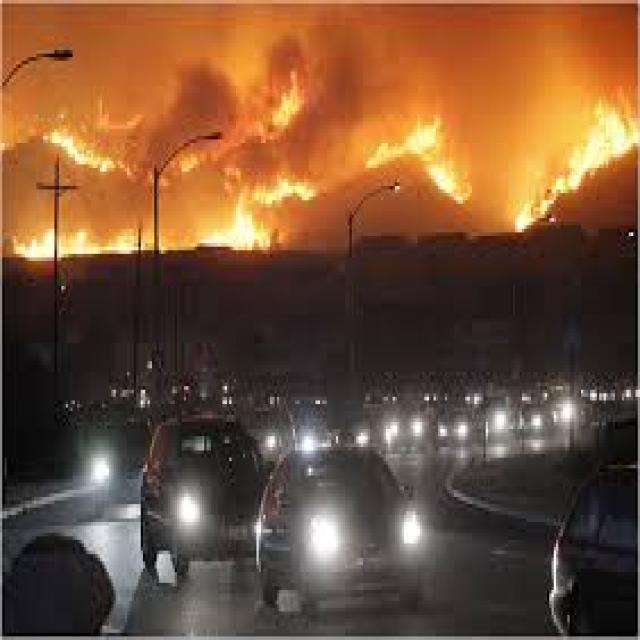Fire: (565, 92, 640, 200), (360, 108, 448, 168), (37, 120, 120, 172), (202, 206, 272, 258), (423, 158, 482, 214), (270, 74, 306, 139), (509, 186, 546, 242), (254, 174, 314, 204), (10, 218, 52, 260), (61, 227, 90, 260), (108, 228, 134, 254)
Smoke: (140, 56, 244, 167), (313, 38, 361, 128)
